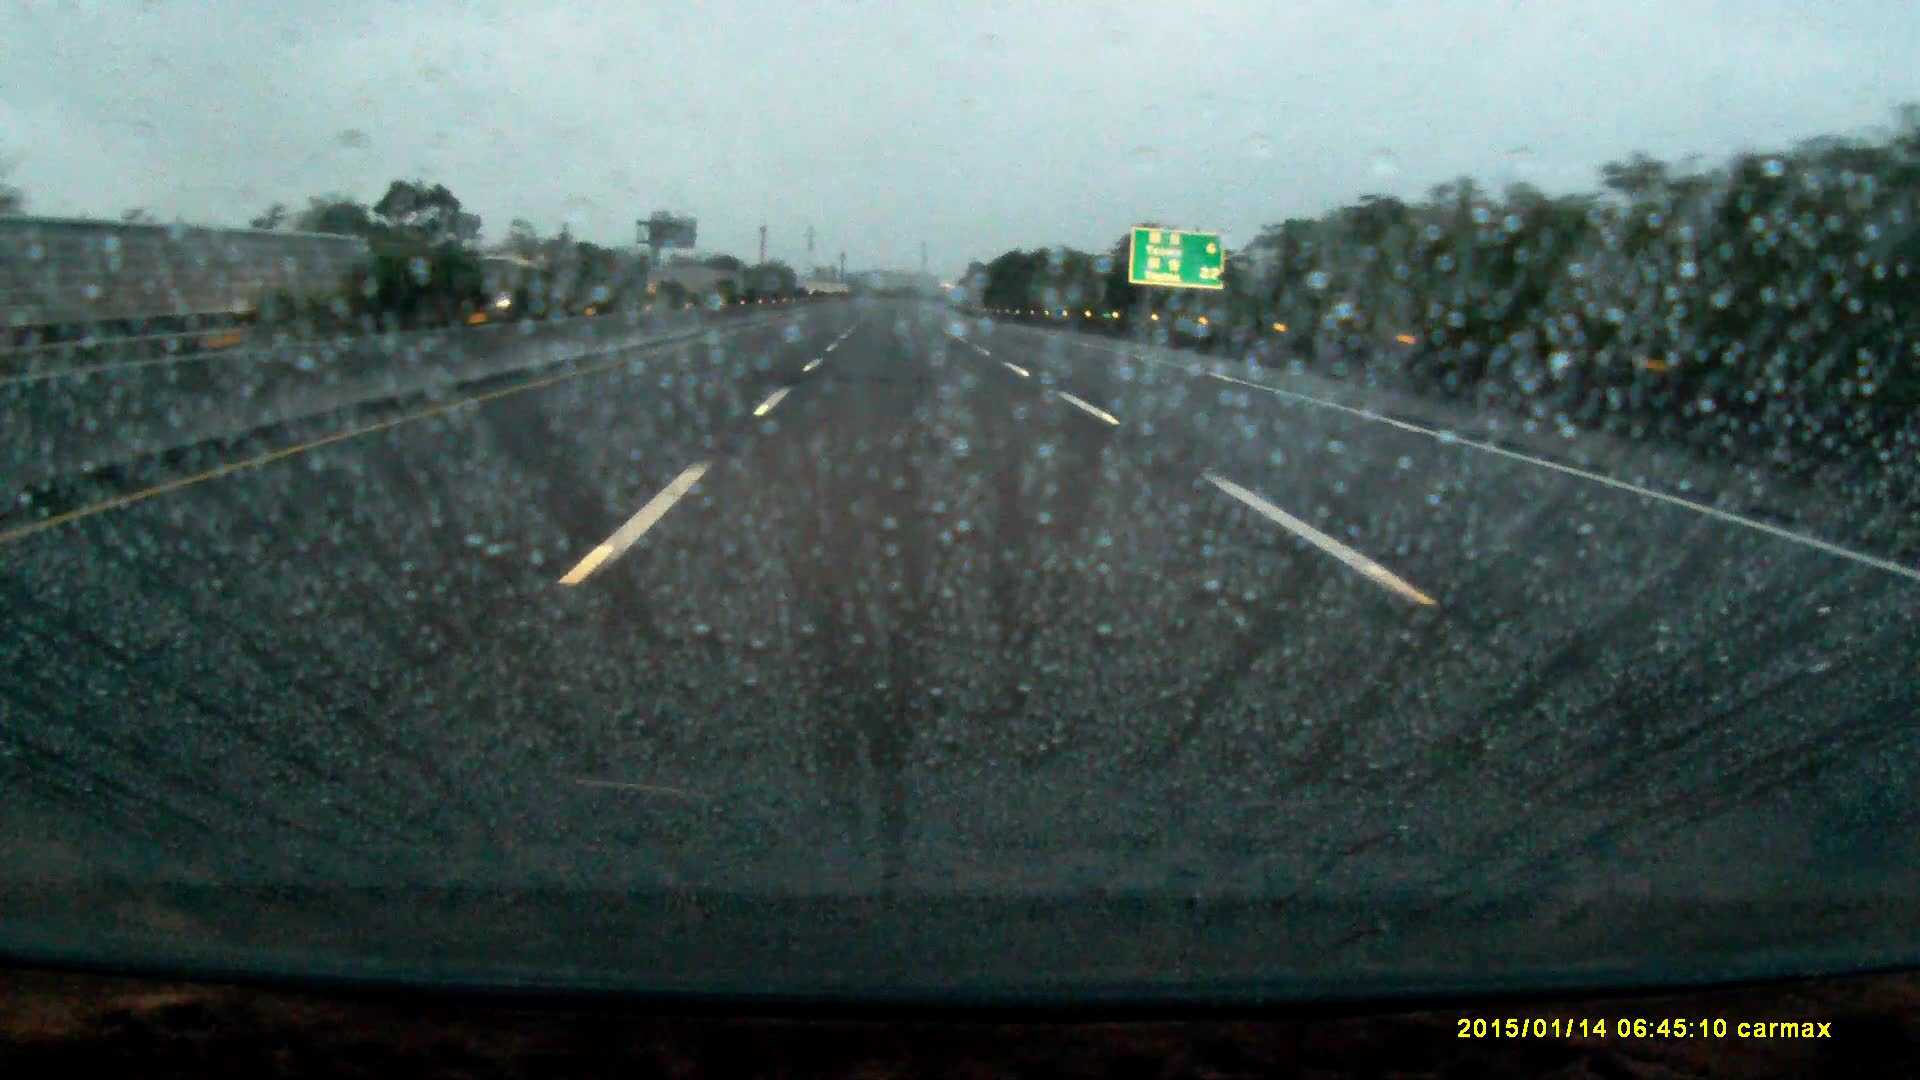vehicle: (460, 256, 564, 313)
